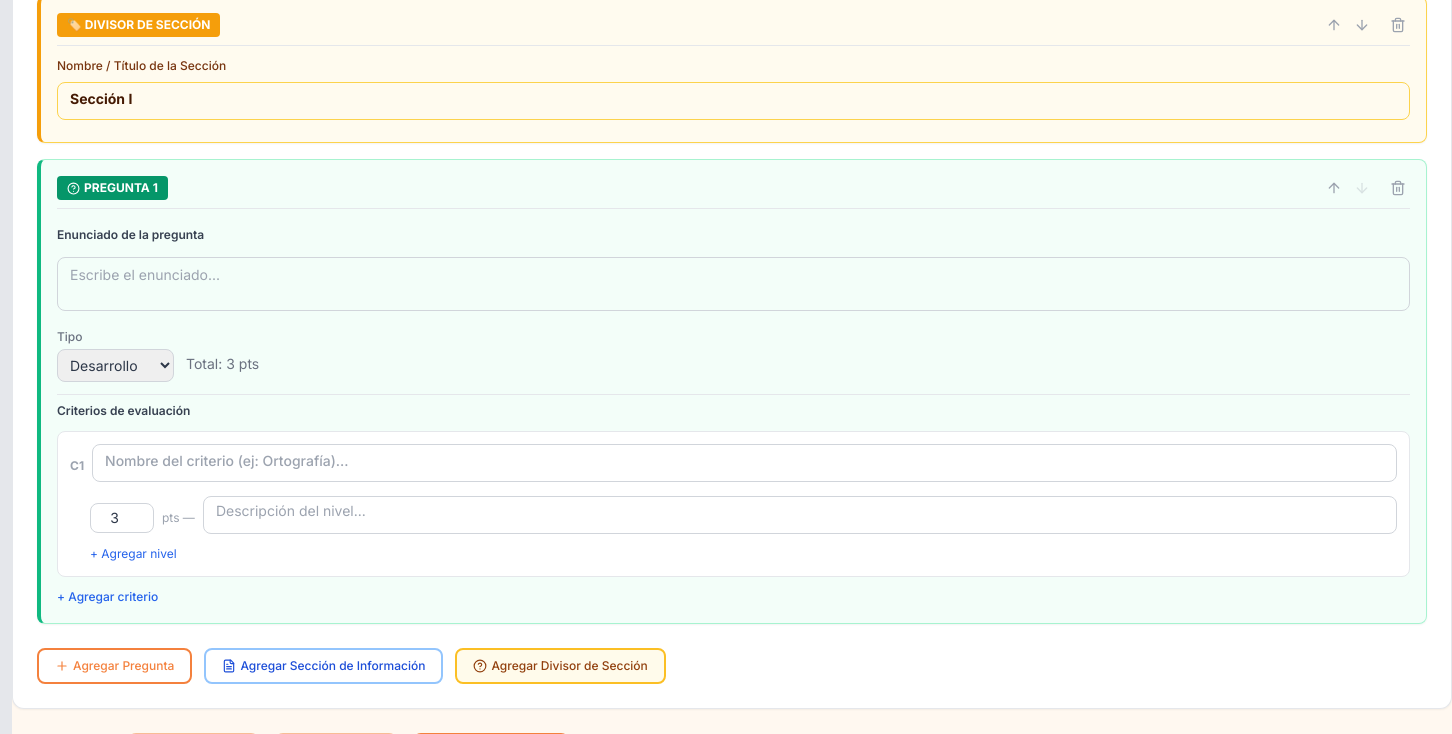
Test case: NuevaEvaluacionPage (Tiza) › agrega dos preguntas al hacer clic dos veces
(page scrolled)
Step 1. Click the button "Agregar Pregunta" → (115, 666), box [37,648,192,684]
(page scrolled)
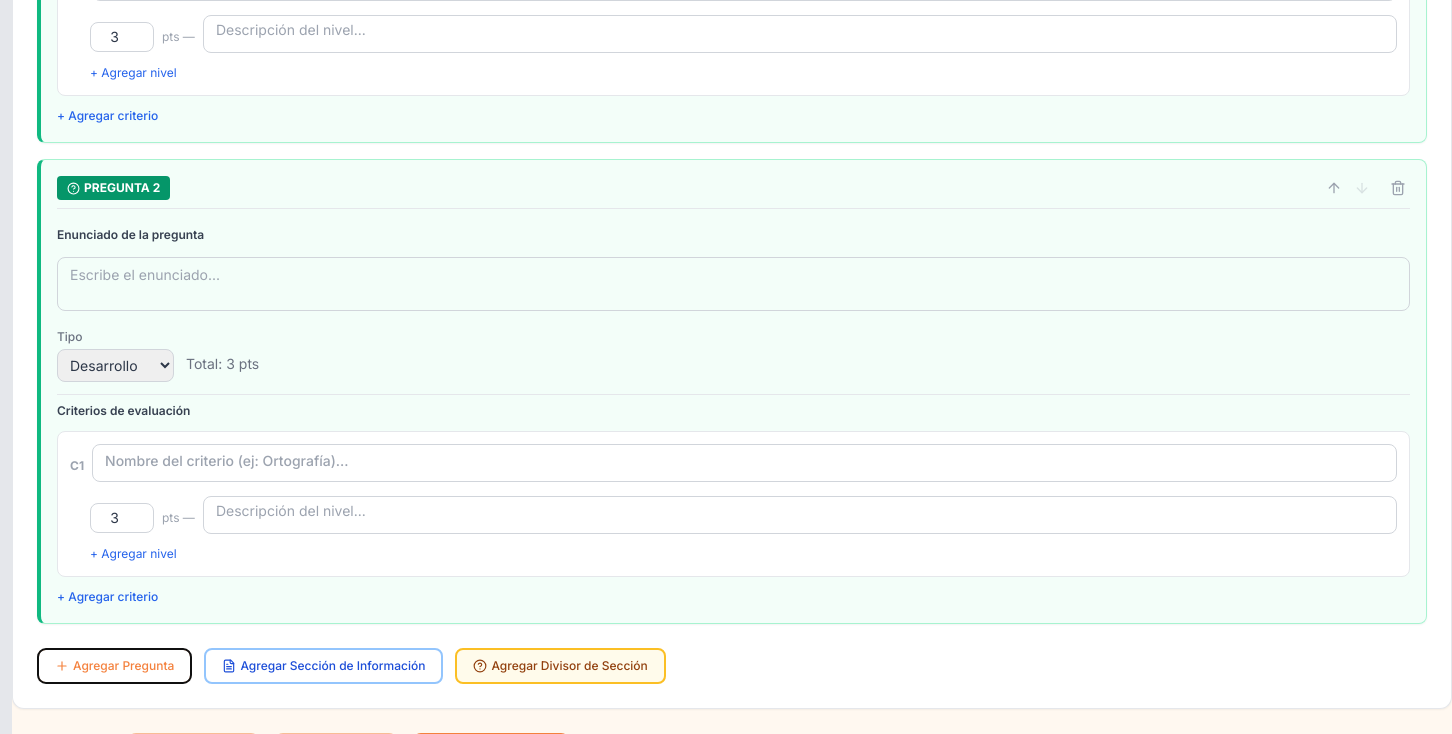
Step 2. Click the button "Agregar Pregunta" → (115, 666), box [37,648,192,684]
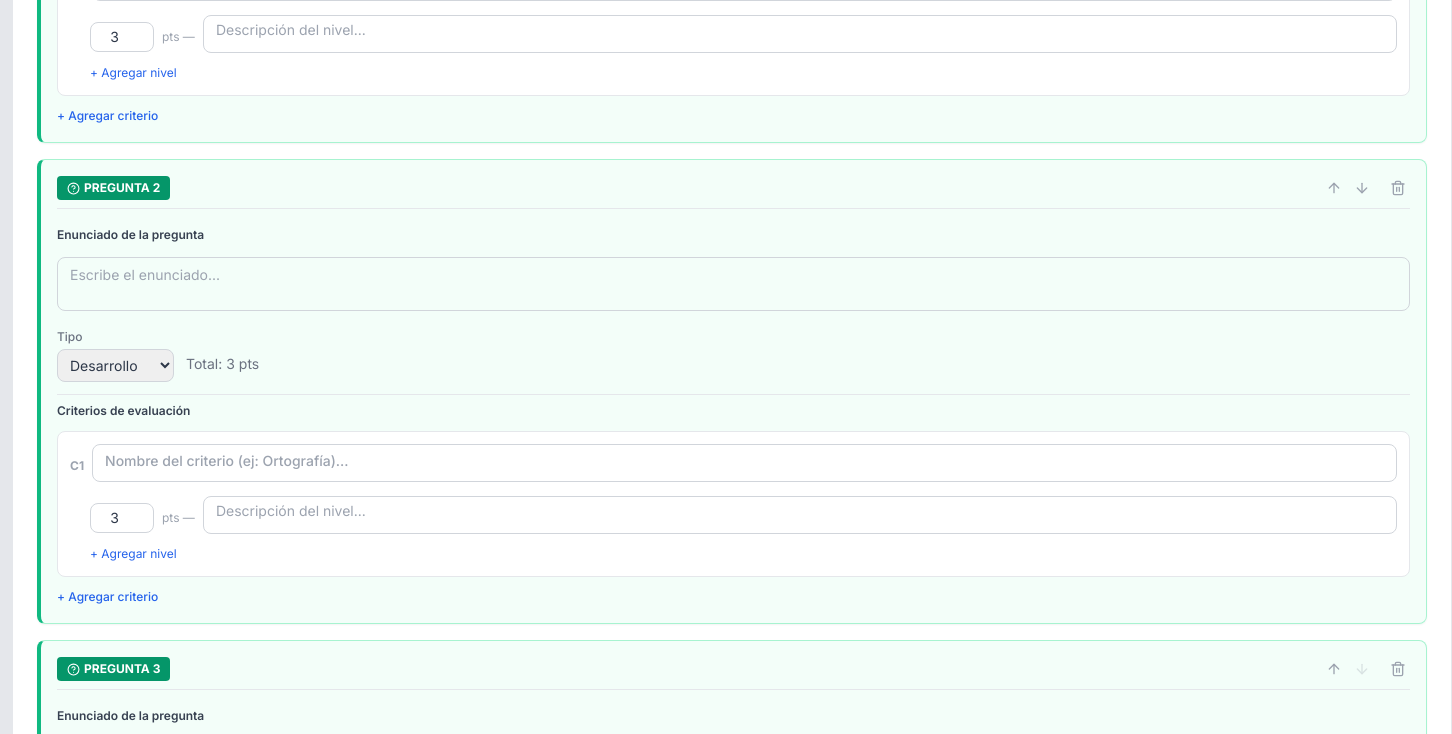
expect the text "Pregunta 2" is shown: met, box [84,180,160,196]
expect the text "Pregunta 3" is shown: met, box [84,661,160,677]
